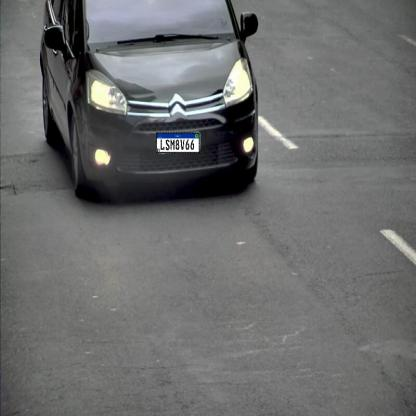PlacaM: (156, 132, 200, 154)
